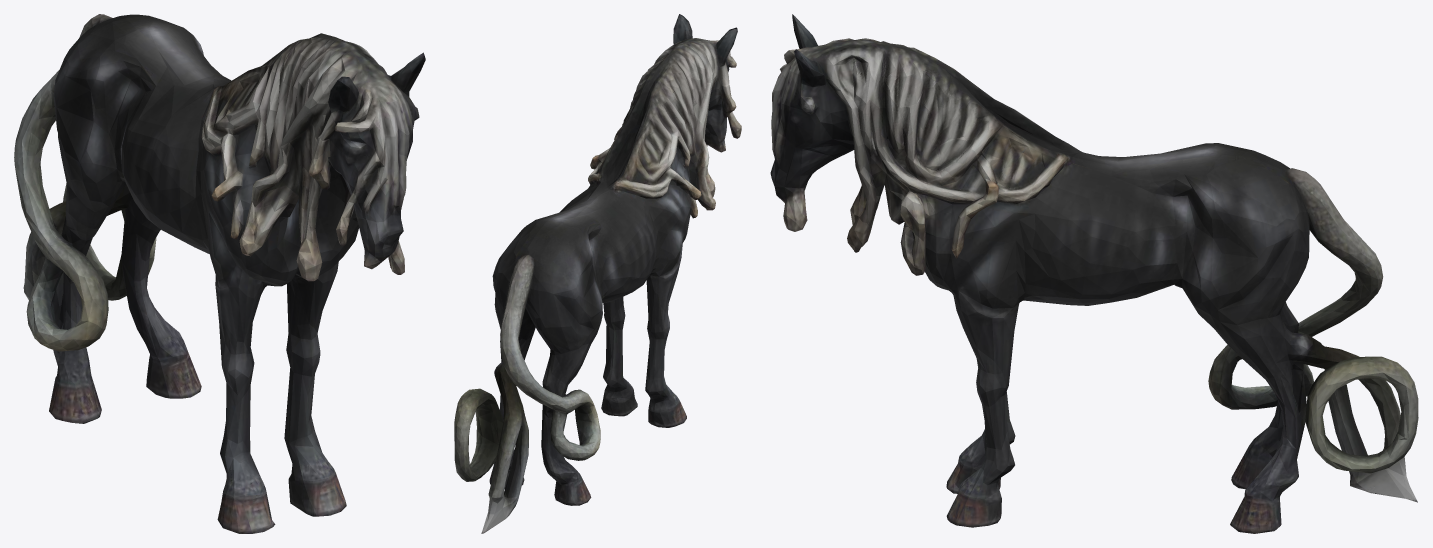
The model's file is mothmara.glb.
3 renders of one model, left to right at view 1: azimuth 30°, elevation 25°; view 2: azimuth 150°, elevation 25°; view 3: azimuth 270°, elevation 25°, orthographic. The views are drawn at different scales.
Parts seen in each view (by area): view 1: world; view 2: world; view 3: world.
Boxes of the visible parts, left/top/right/bottom form: world: left=14, top=14, right=425, bottom=533; world: left=454, top=14, right=741, bottom=533; world: left=770, top=14, right=1418, bottom=533.
Bounding box in the file's own units: 0.256 × 0.8063 × 1.
1 material, 1 textured.
